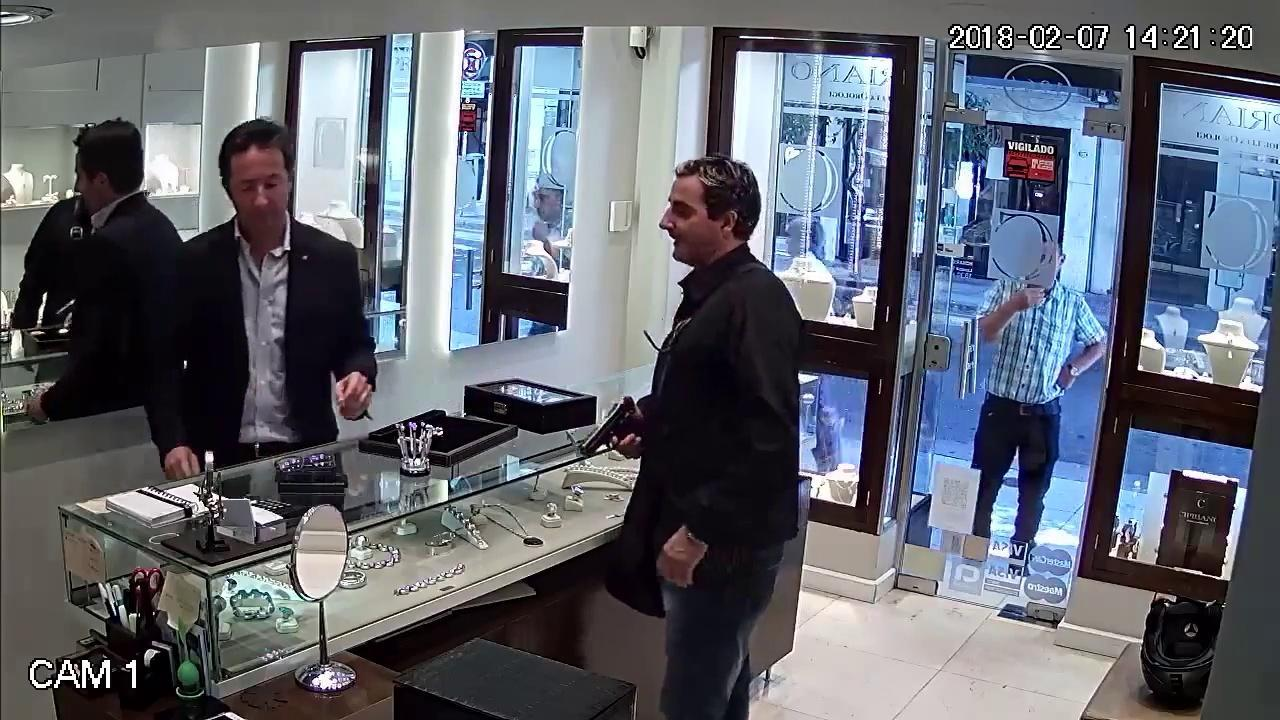Guns perspective: (563, 375, 660, 480)
